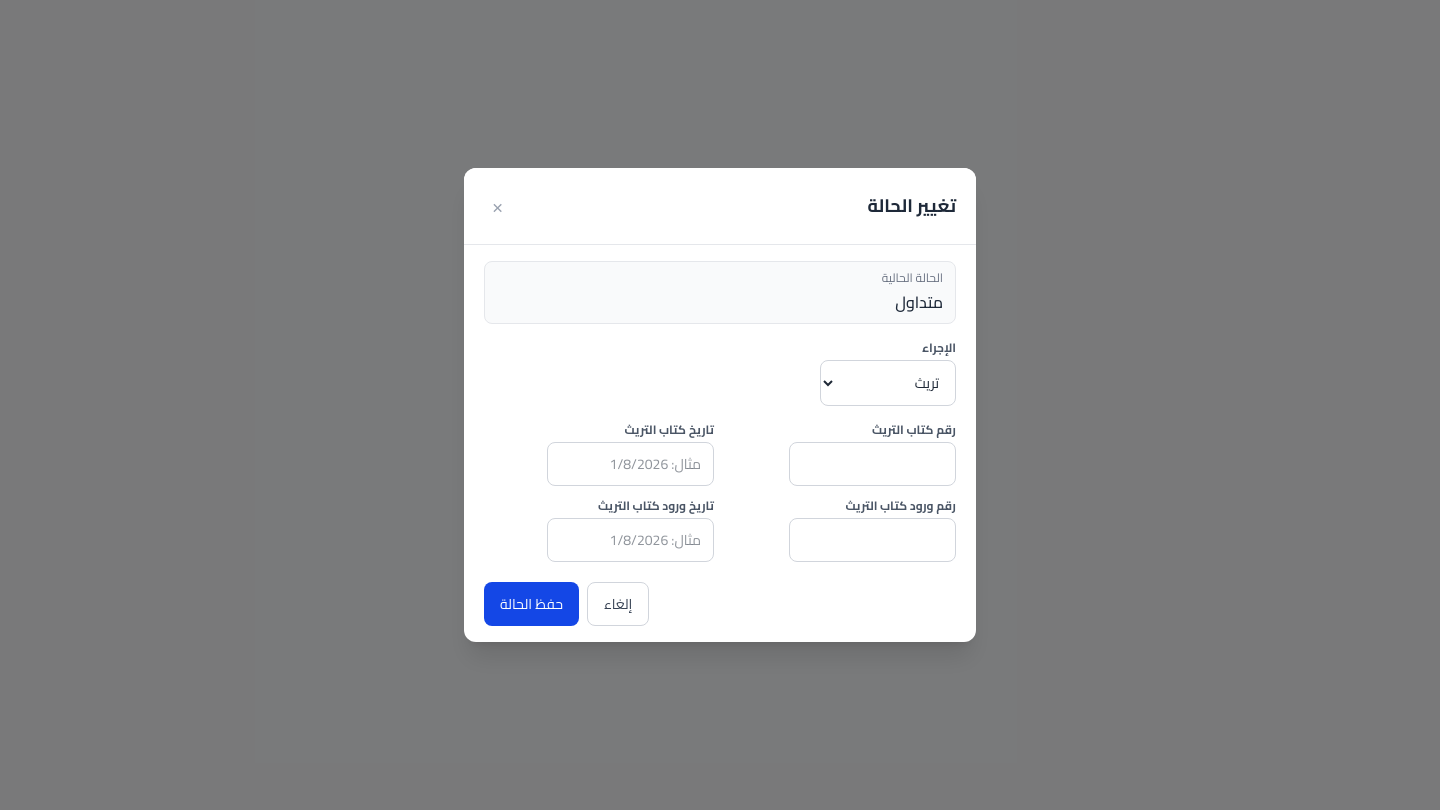
Test: StatusChangeModal › يمنع منفذ جبريا دون اختيار عقارات مباعة
The image size is (1440, 810).
Select "منفذ جبريا" in the dropdown labelled "الإجراء" at (888, 383), box [820,360,956,406]
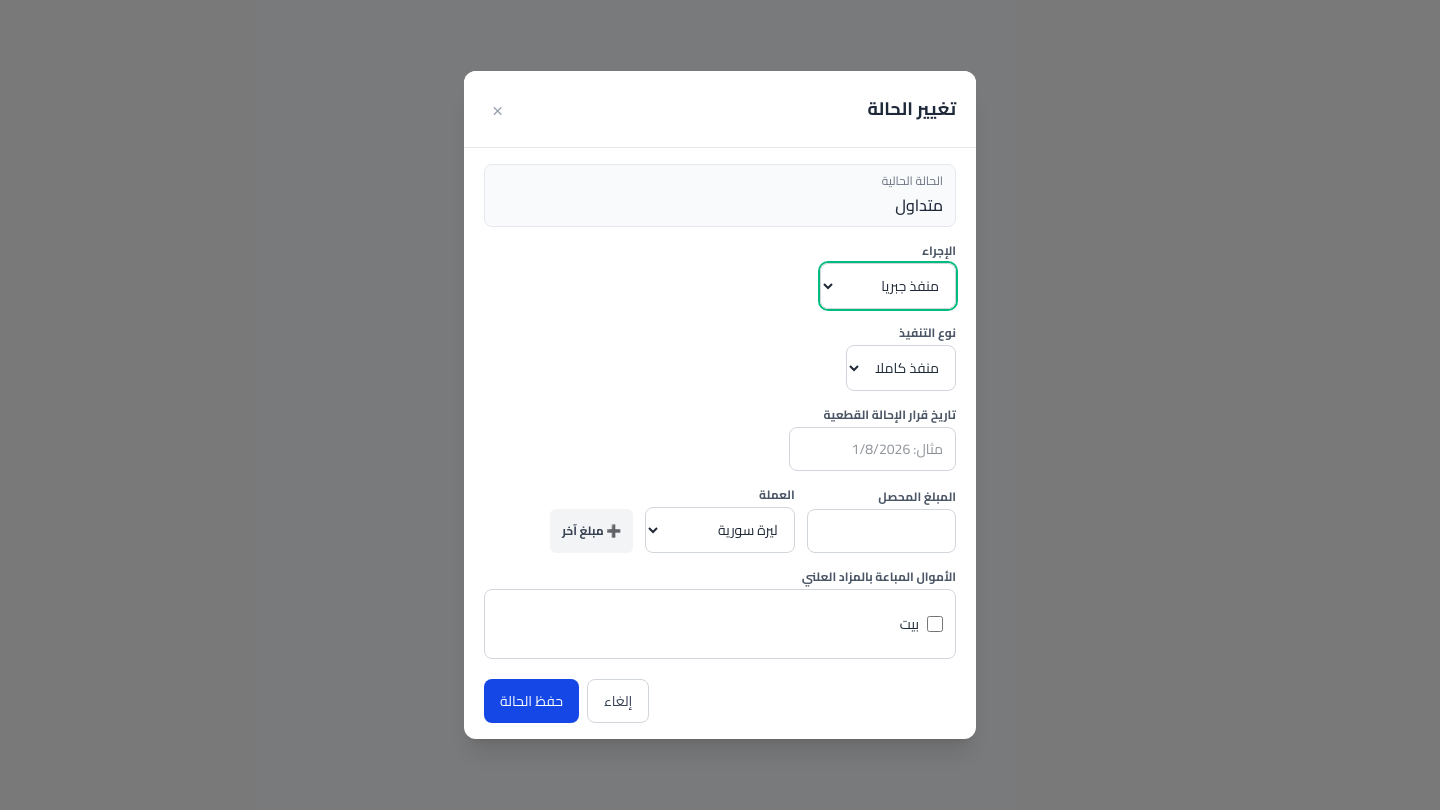
Type "1/6/2026" into the field labelled "تاريخ قرار الإحالة القطعية" at (872, 449), box [789,427,956,471]
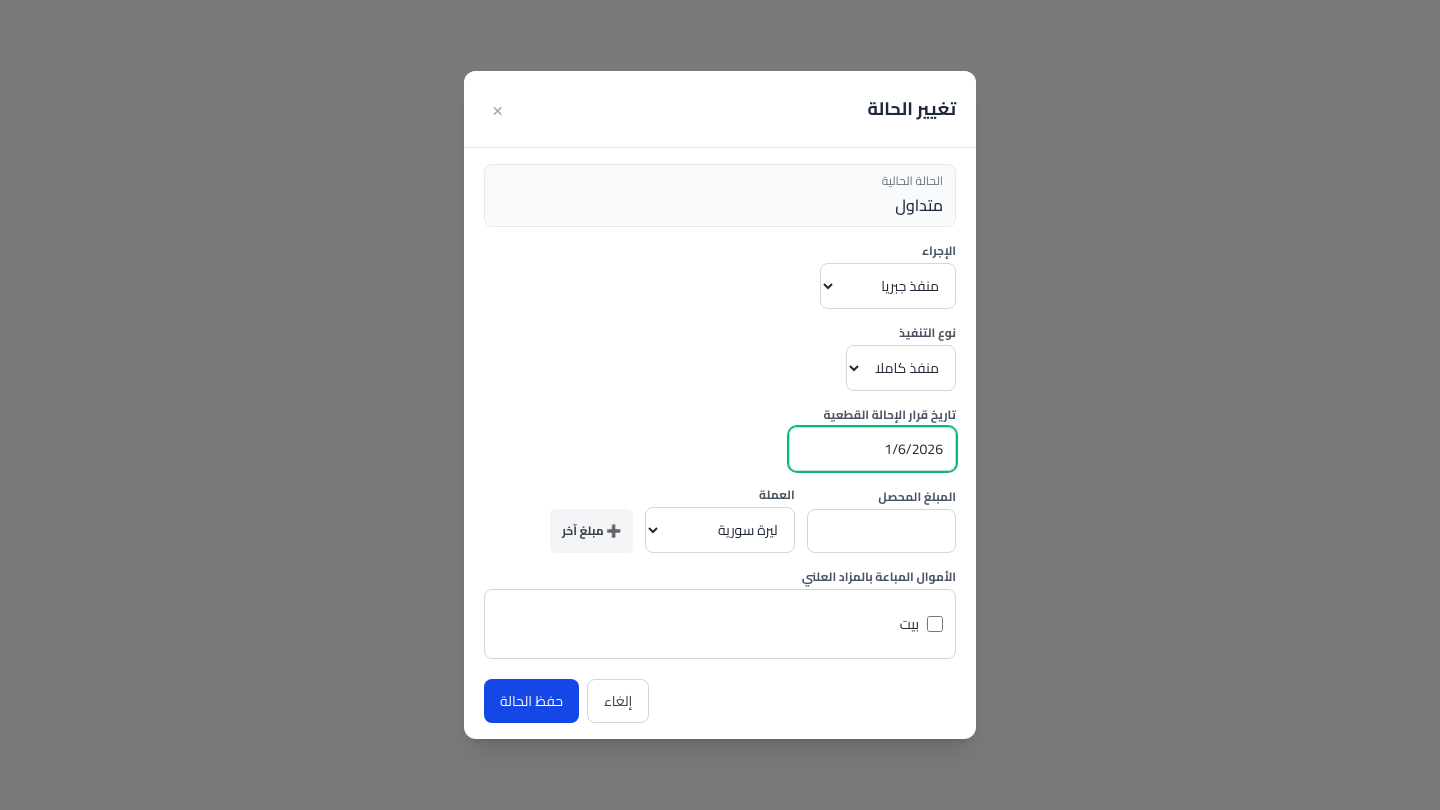
Click the button "حفظ الحالة" at (532, 701), box [484,679,579,723]
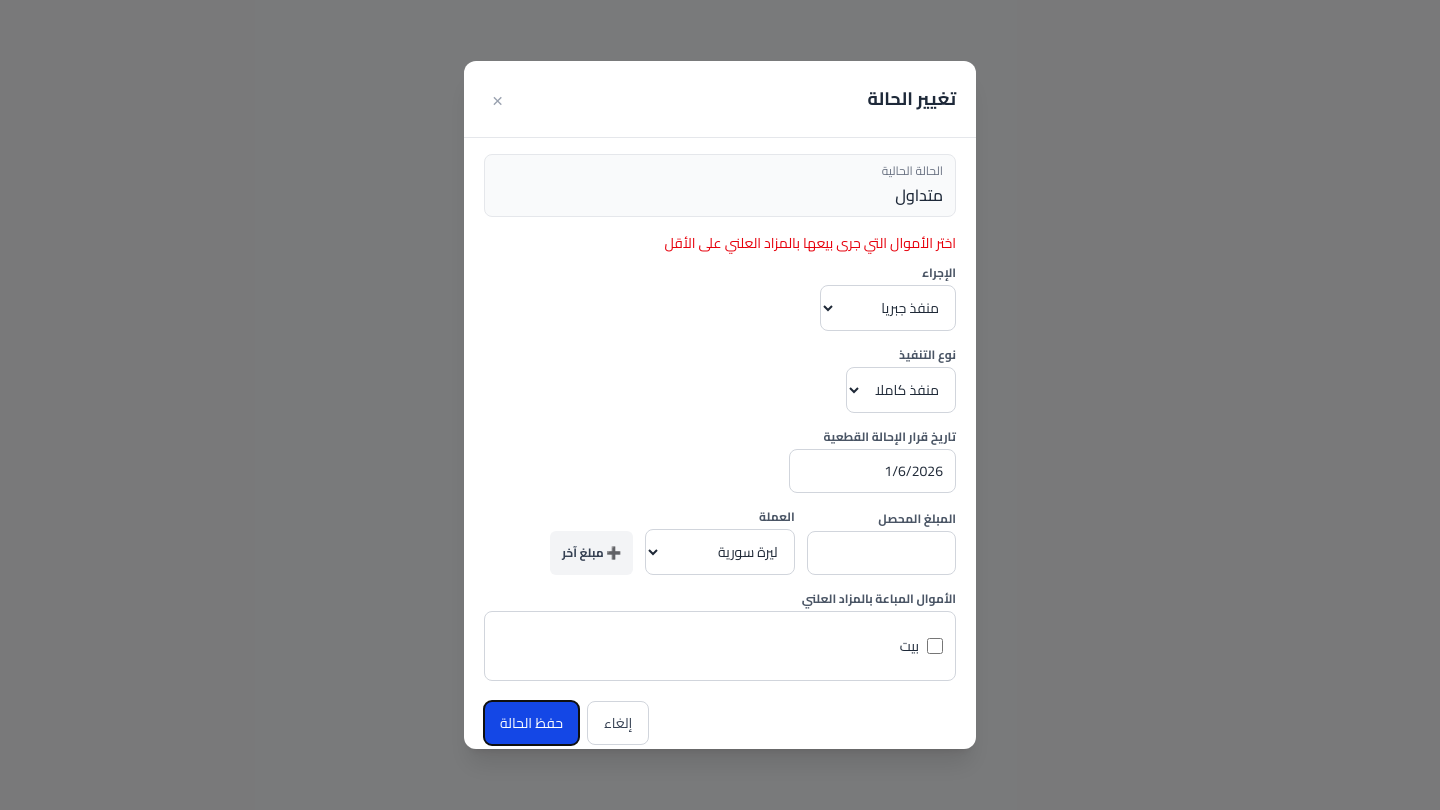
Expected: the text "اختر الأموال التي جرى بيعها بالمزاد العلني على الأقل" is shown, [664,230,956,256]
